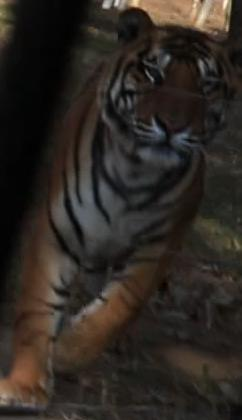tiger: (0, 8, 241, 409)
